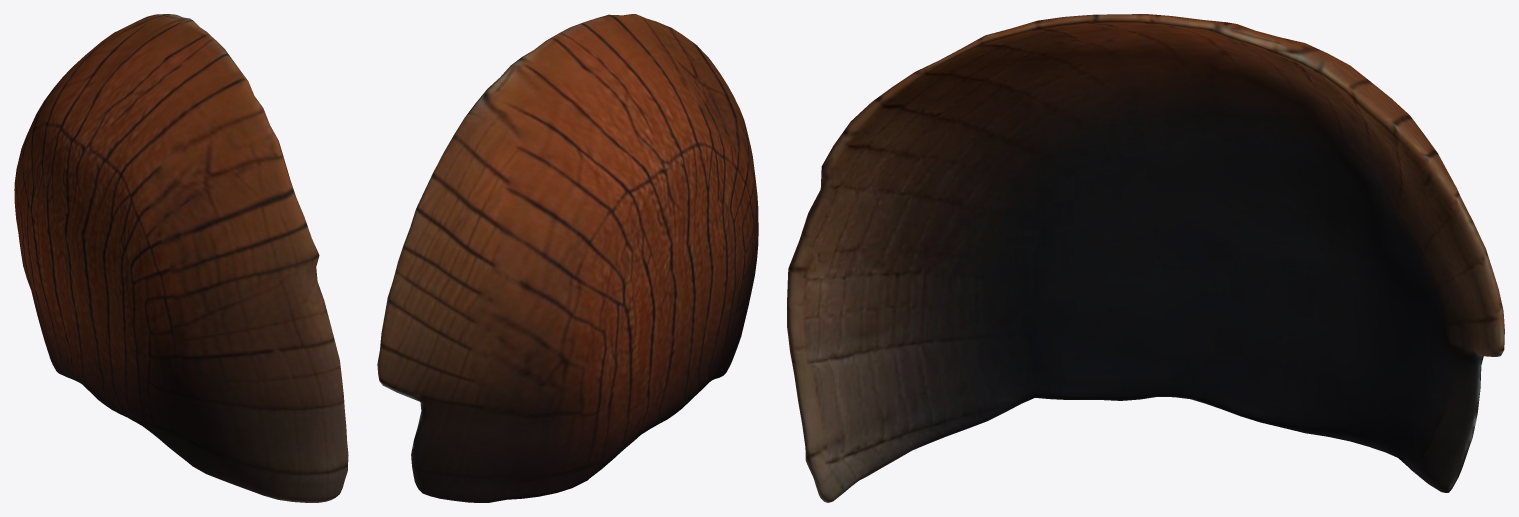
File: TunnelEnd.fbx
3 renders of one model, left to right at view 1: azimuth 30°, elevation 25°; view 2: azimuth 150°, elevation 25°; view 3: azimuth 270°, elevation 25°, orthographic. The views are drawn at different scales.
Visible parts, largest first — view 1: tripo_node_48643147; view 2: tripo_node_48643147; view 3: tripo_node_48643147.
Boxes of the visible parts, <box> form: tripo_node_48643147: <box>14,14,348,502</box>; tripo_node_48643147: <box>377,14,758,502</box>; tripo_node_48643147: <box>787,14,1504,502</box>.
Bounding box in the file's own units: 27.57 × 59.93 × 79.78.
1 material, 1 textured.
